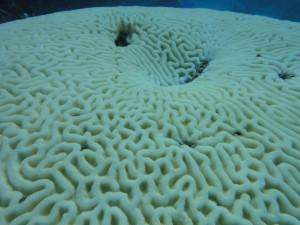bleached_corals: (0, 7, 300, 225)
